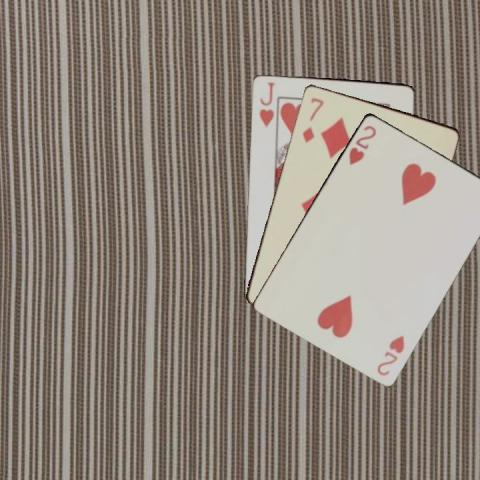2h: (373, 332, 406, 377), (345, 122, 378, 166)
7d: (299, 94, 325, 144)
Jh: (256, 79, 276, 128)
